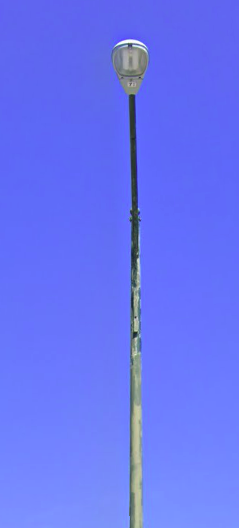pole: (101, 34, 162, 505)
